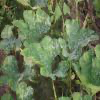Squash Powdery mildew leaf: (22, 36, 70, 79), (0, 8, 51, 44), (59, 17, 98, 62)
